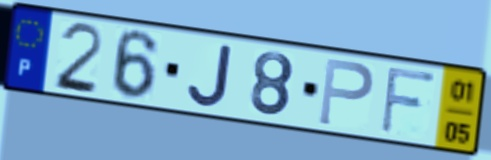2: (53, 20, 105, 97)
6: (110, 28, 163, 103)
8: (248, 49, 297, 118)
F: (377, 64, 439, 137)
J: (185, 42, 236, 110)
P: (316, 55, 377, 129)
